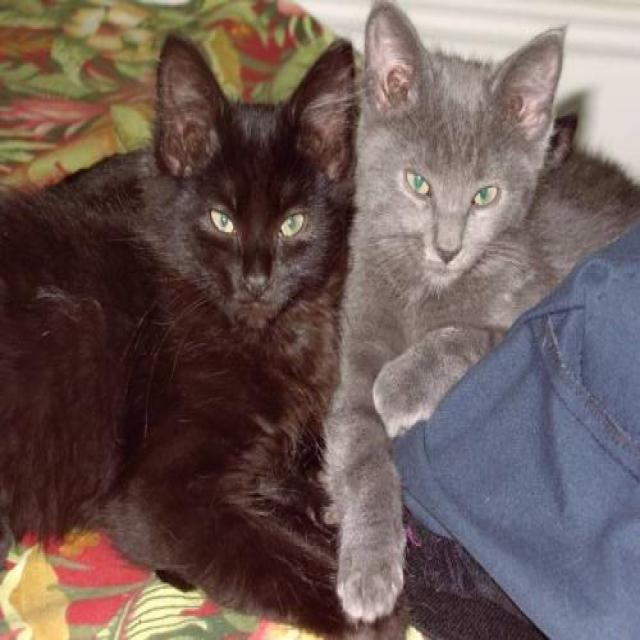Cats: (0, 29, 367, 633), (317, 0, 639, 625)
